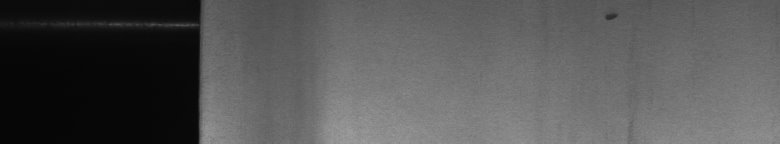fi: (600, 4, 633, 132)
